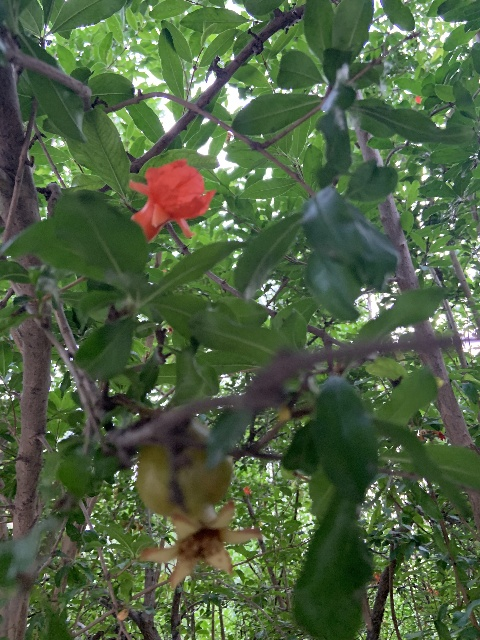flower: (128, 159, 216, 243)
mid-growth: (134, 422, 262, 591)
